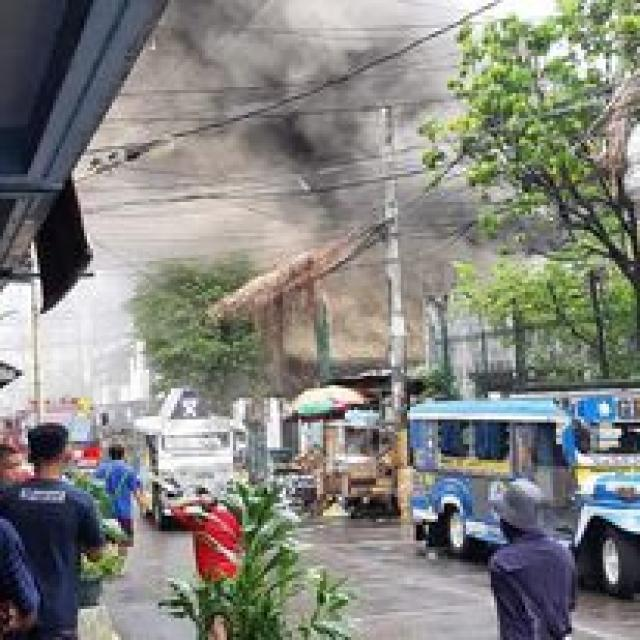Smoke: (169, 0, 424, 246)
